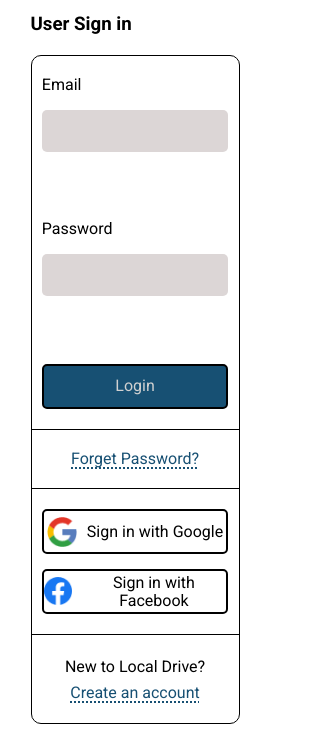
Test case: Login component › should render an error messages if invalid credentials error occurs after submission
Step 1. Type "email@email.com" into the field labelled "Email" → (135, 131), box x1=42 y1=110 x2=228 y2=152
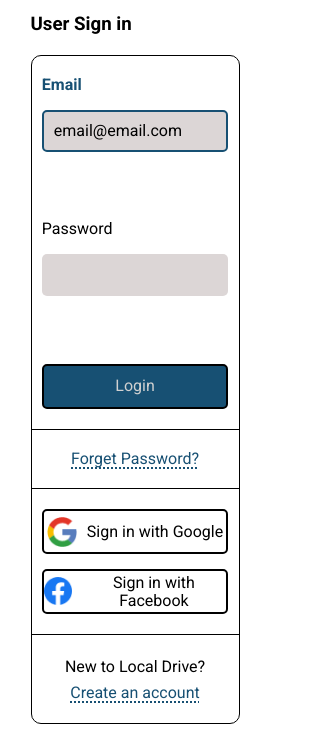
Step 2. Type "1!Qwerty" into the password field labelled "Password" → (135, 275), box x1=42 y1=254 x2=228 y2=296
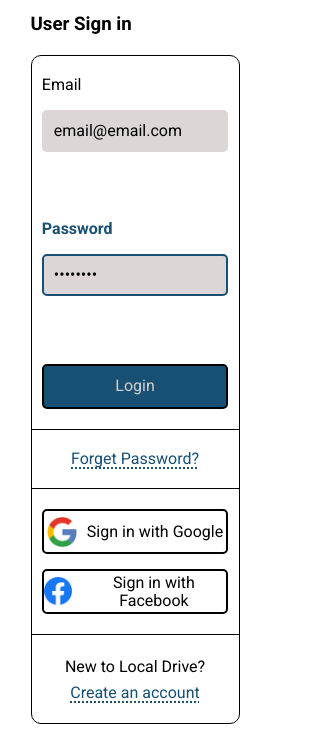
Step 3. Click the button "Login" → (135, 386), box x1=42 y1=364 x2=228 y2=409
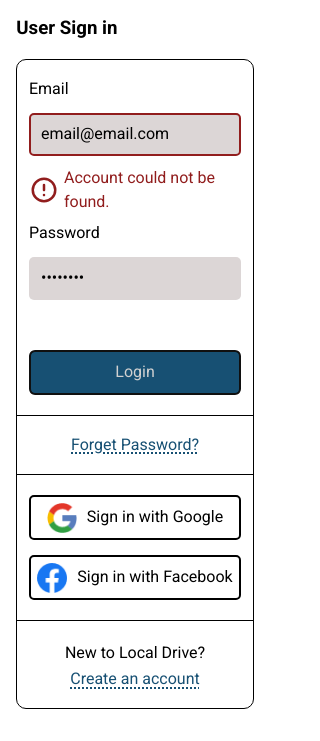
Expected: the text "Account could not be found." is shown, x1=64 y1=166 x2=241 y2=214
